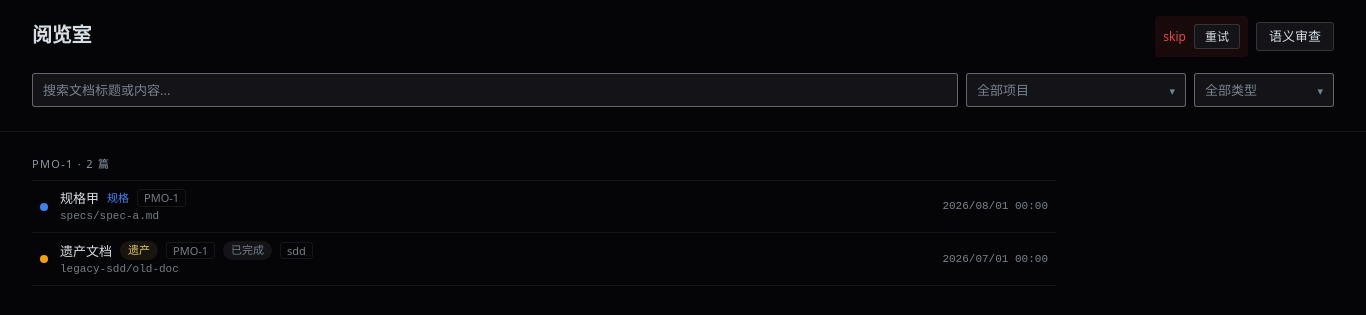
it: LibraryPage（#155 T5 阅览室） › #436 B11 密度与类型筛选 › 类型筛选：选定 kind 后列表只显示该类型文档
The image size is (1366, 315).
Expected: the text "规格甲" is shown, [60, 189, 99, 207]
Expected: the text "遗产文档" is shown, [60, 242, 112, 260]
Step 1. Click the button with aria-label "类型筛选" → (1264, 90), box [1194, 73, 1334, 107]
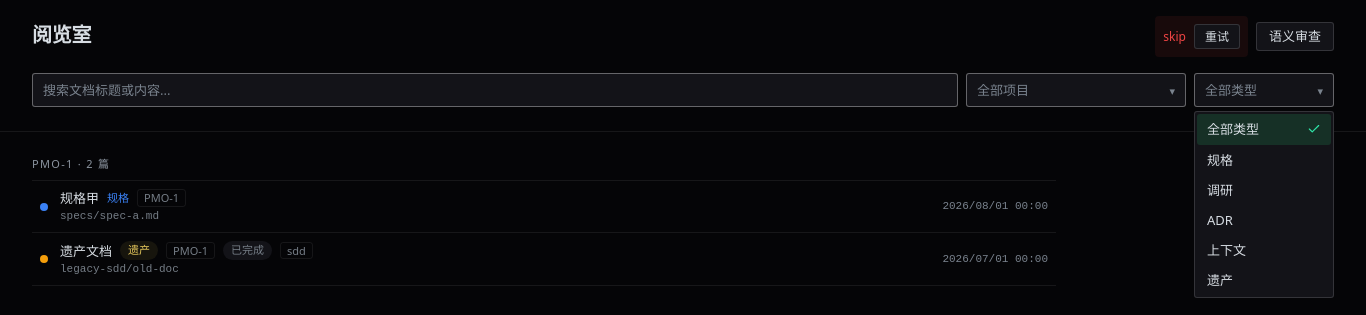
Step 2. Click the option "遗产" → (1220, 280), box [1207, 271, 1233, 289]
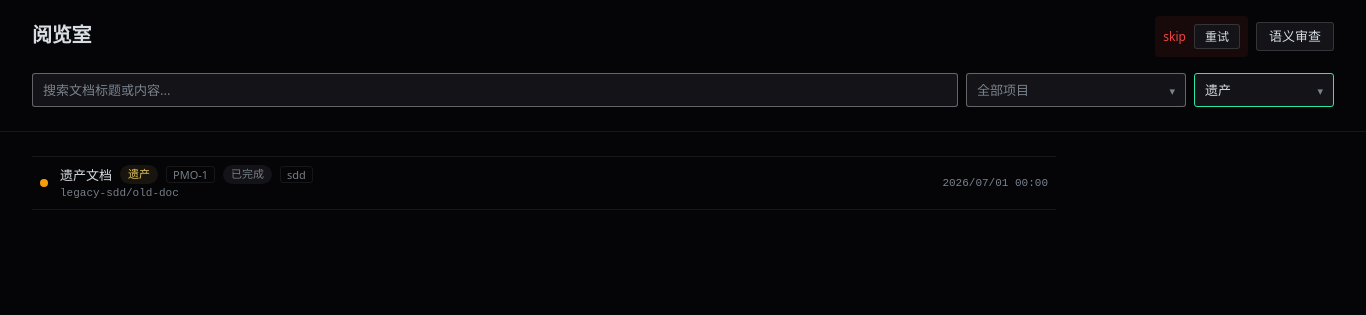
Expected: the text "遗产文档" is shown, [60, 166, 112, 184]
Expected: the link "规格甲" is gone
